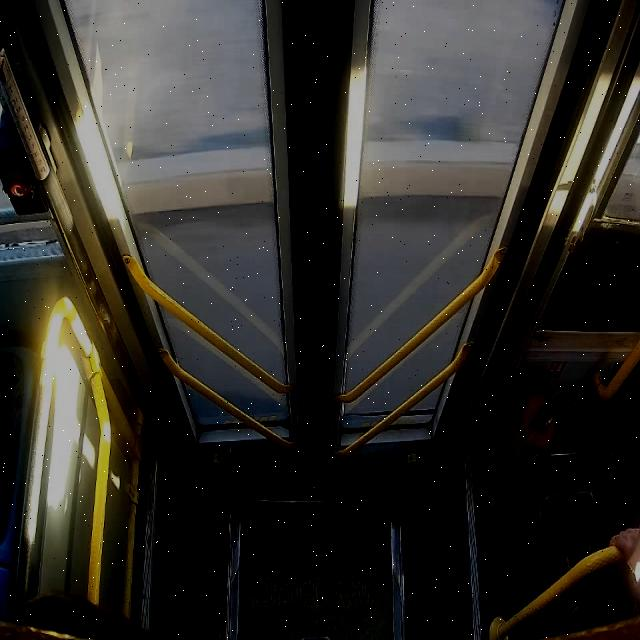close: (64, 2, 566, 488)
